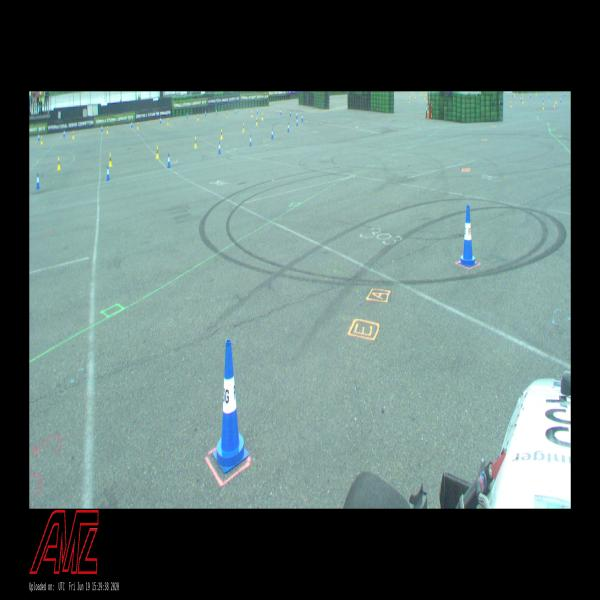blue_cone: (213, 339, 249, 473), (458, 206, 477, 268), (106, 164, 110, 181), (36, 173, 40, 189), (167, 153, 171, 168), (218, 141, 221, 154), (271, 128, 274, 139), (287, 122, 290, 132), (250, 135, 252, 147), (301, 113, 303, 122), (296, 111, 298, 119), (296, 118, 298, 126), (280, 108, 282, 115), (38, 134, 40, 141), (101, 125, 103, 131), (160, 118, 162, 124), (64, 129, 65, 137), (290, 109, 291, 116), (257, 108, 258, 114), (132, 121, 132, 127)
yellow_cone: (57, 157, 61, 170), (109, 153, 112, 167), (156, 146, 159, 158), (194, 136, 197, 148), (220, 129, 223, 139), (242, 122, 244, 132), (256, 118, 258, 126), (41, 136, 43, 144), (72, 131, 74, 139), (167, 118, 169, 125), (197, 114, 199, 121), (137, 123, 139, 129), (262, 113, 263, 120), (107, 126, 108, 133), (252, 111, 253, 117)
